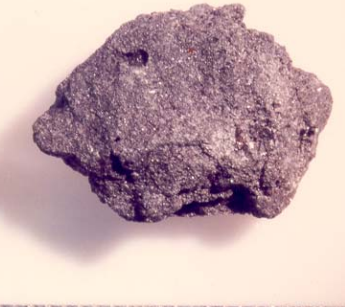Basalt: (71, 22, 311, 225)
